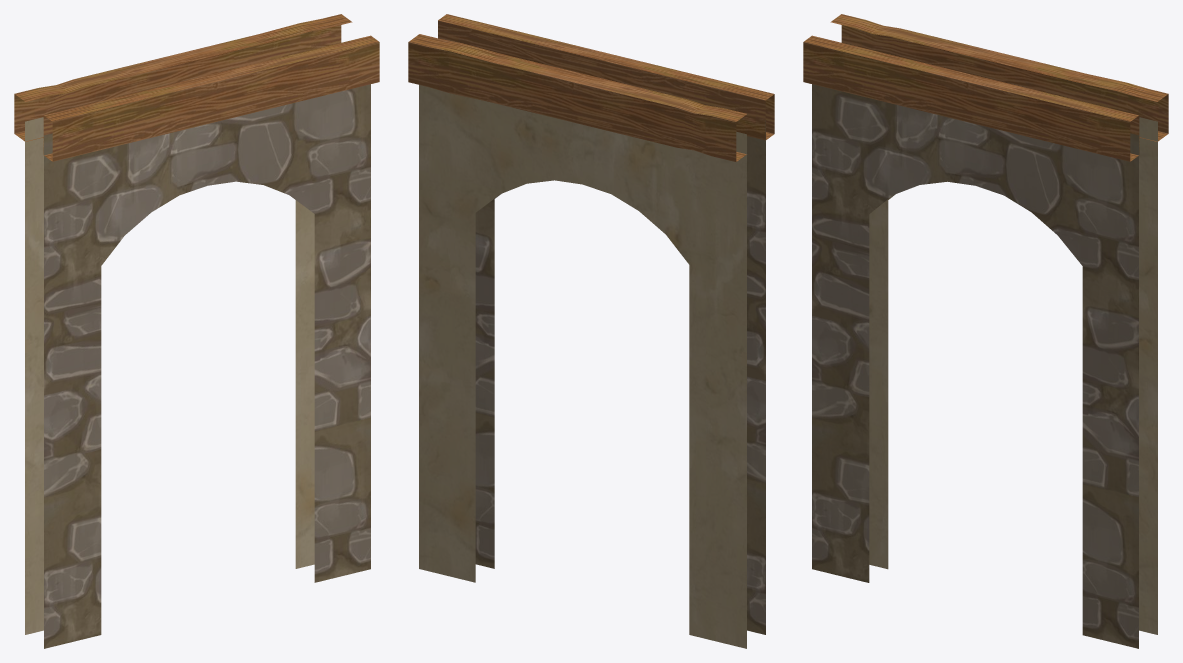
The model's file is Wall_UnevenBrick_Door_Round.gltf.
3 renders of one model, left to right at view 1: azimuth 30°, elevation 25°; view 2: azimuth 150°, elevation 25°; view 3: azimuth 330°, elevation 25°, orthographic.
Visible parts, largest first — view 1: Wall_UnevenBrick_Door_Round; view 2: Wall_UnevenBrick_Door_Round; view 3: Wall_UnevenBrick_Door_Round.
Boxes of the visible parts, x1,y1,x2,y2 form: Wall_UnevenBrick_Door_Round: [14, 14, 379, 648]; Wall_UnevenBrick_Door_Round: [408, 14, 774, 648]; Wall_UnevenBrick_Door_Round: [803, 14, 1168, 648].
Size of the model in its own units: 2 by 3.12 by 0.4065.
3 materials, 3 textured.
